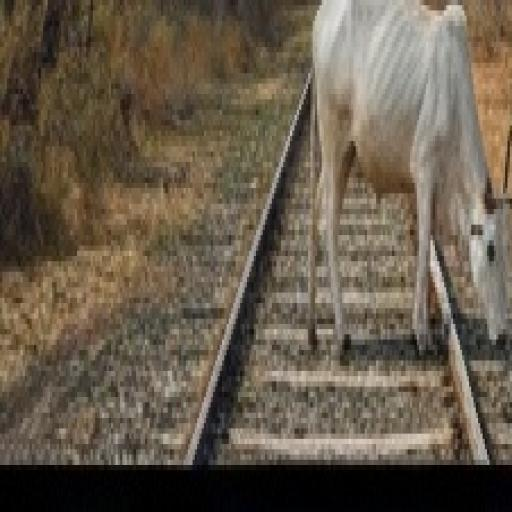camel: (306, 0, 509, 362)
